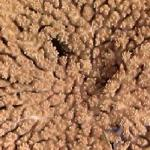alive: (12, 4, 141, 145)
